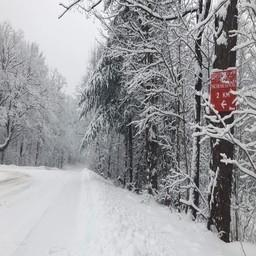Snow: (0, 162, 255, 255)
